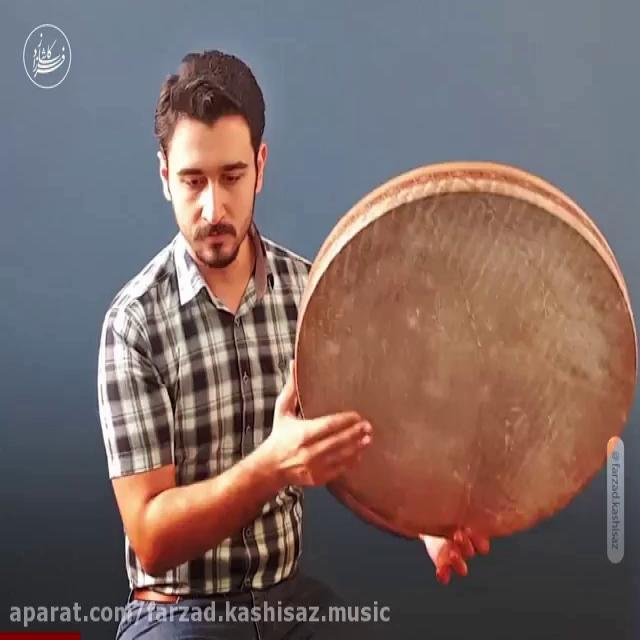Daf: (290, 164, 640, 541)
